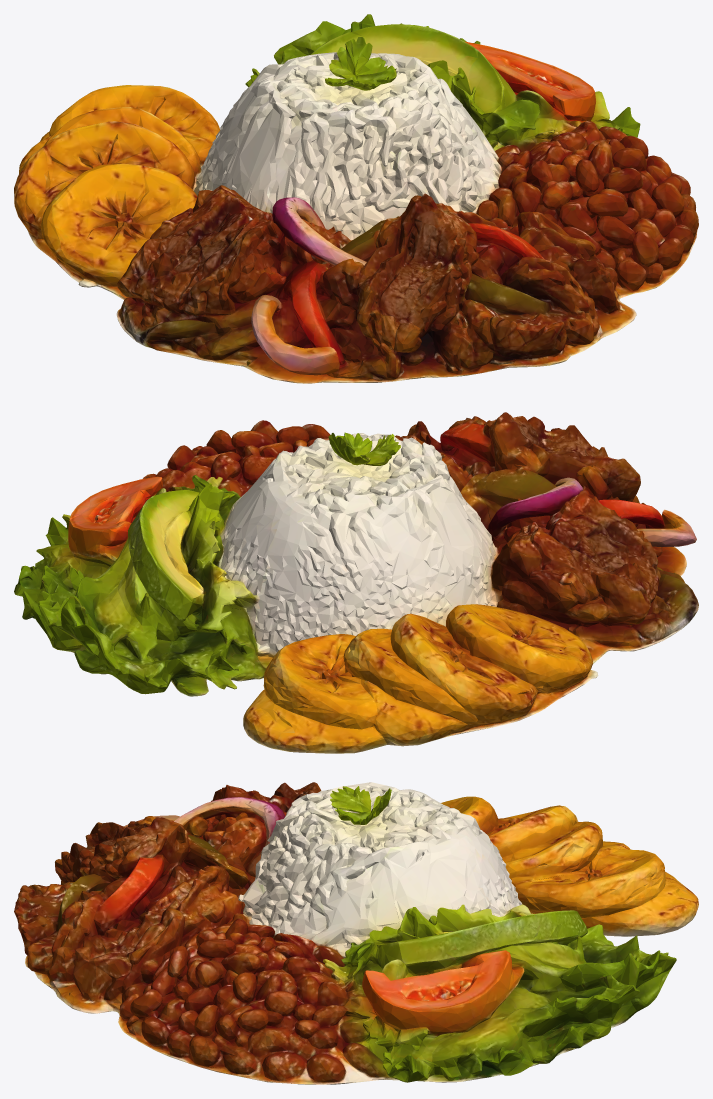
Rendered from la-bandera.glb.
The picture shows the model from 3 angles, top to bottom: view 1: azimuth 30°, elevation 25°; view 2: azimuth 150°, elevation 25°; view 3: azimuth 270°, elevation 25°; orthographic projection. The views are drawn at different scales.
Parts seen in each view (by area): view 1: geometry_0; view 2: geometry_0; view 3: geometry_0.
Part boxes in pixels (x1,y1,x2,y2): geometry_0: [14, 14, 698, 383]; geometry_0: [14, 412, 698, 753]; geometry_0: [14, 782, 698, 1084].
Size of the model in its own units: 0.2729 by 0.0829 by 0.3.
1 material, 1 textured.
